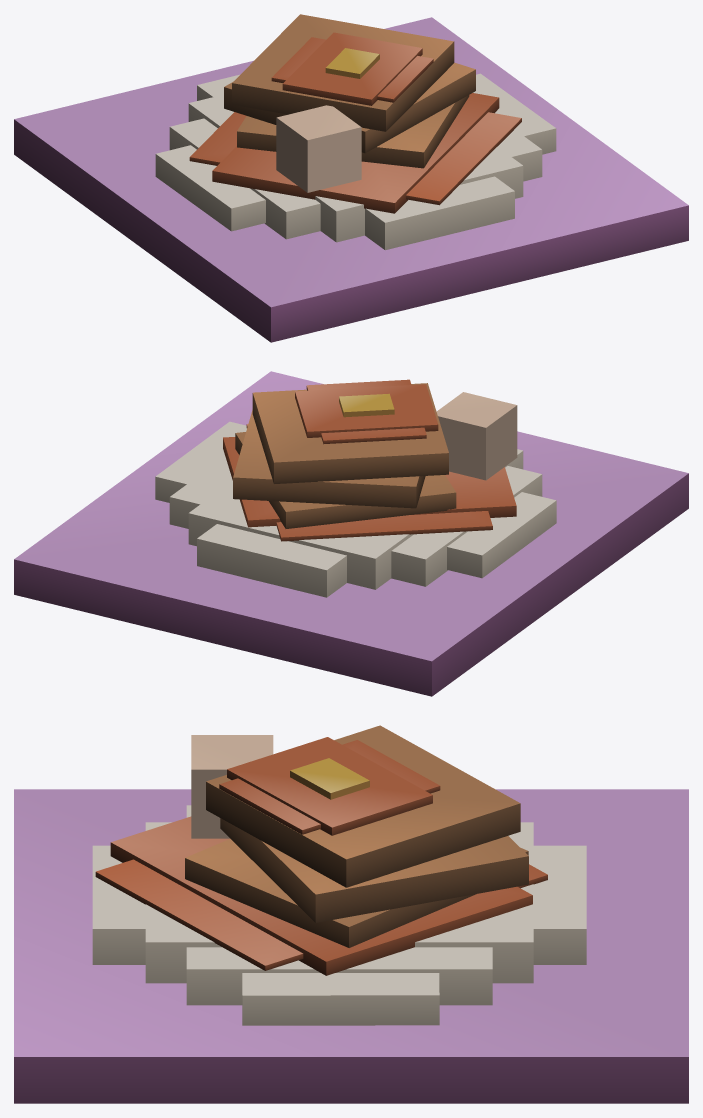
The model's file is Food-002-Pancakes.fbx.
3 renders of one model, top to bottom at view 1: azimuth 30°, elevation 25°; view 2: azimuth 150°, elevation 25°; view 3: azimuth 270°, elevation 25°, orthographic. The views are drawn at different scales.
Visible parts, largest first — view 1: FOOD-Type02-Pancakes; view 2: FOOD-Type02-Pancakes; view 3: FOOD-Type02-Pancakes.
Boxes of the visible parts, x1,y1,x2,y2 form: FOOD-Type02-Pancakes: [14, 14, 688, 342]; FOOD-Type02-Pancakes: [14, 371, 688, 696]; FOOD-Type02-Pancakes: [14, 725, 688, 1103].
Bounding box in the file's own units: 6.45 × 2.13 × 6.87.
